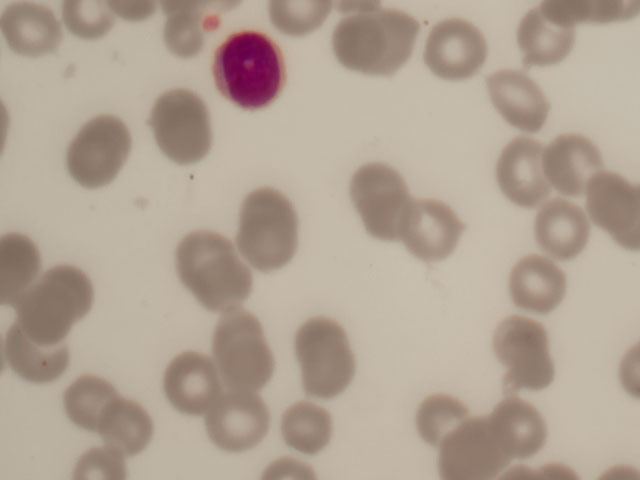Platelets: (201, 15, 224, 36)
RBC: (61, 115, 135, 188), (144, 92, 218, 165), (19, 265, 93, 338), (167, 229, 241, 302), (193, 251, 267, 324), (227, 192, 301, 265), (347, 160, 421, 233), (405, 193, 479, 266), (331, 9, 405, 82), (421, 15, 495, 88), (489, 67, 563, 140), (485, 135, 559, 208), (530, 125, 604, 198), (530, 191, 604, 264), (497, 242, 571, 315), (491, 320, 565, 393), (442, 407, 516, 480), (410, 390, 484, 463), (293, 323, 367, 396), (202, 318, 276, 391), (152, 348, 226, 421), (208, 387, 282, 460), (280, 396, 354, 469), (93, 390, 167, 463), (56, 363, 130, 436), (1, 318, 74, 391), (123, 1, 197, 73), (509, 1, 583, 73), (1, 1, 74, 73)
WBC: (212, 32, 287, 109)
